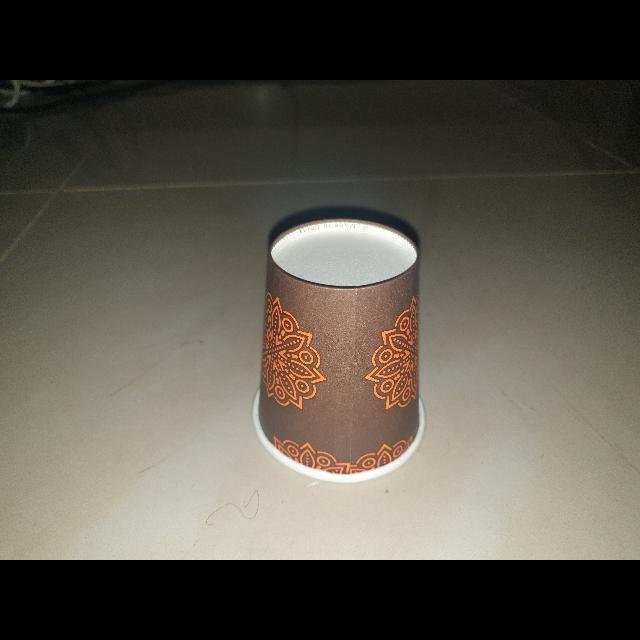trash: (252, 213, 430, 483)
